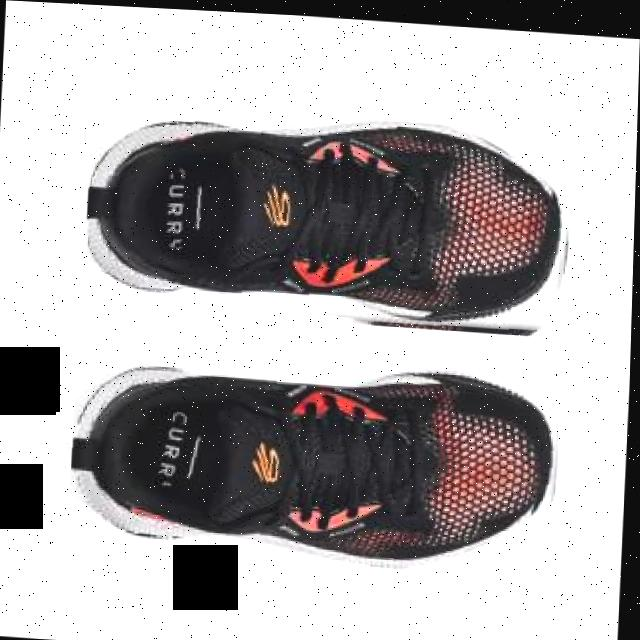shoe: (84, 102, 574, 331), (75, 344, 563, 569), (73, 358, 564, 570), (89, 115, 571, 322)
